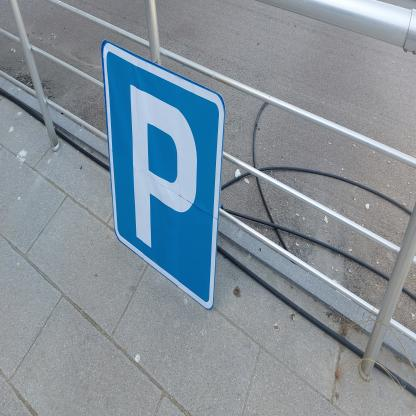Parking-Sign: (102, 38, 227, 315)
